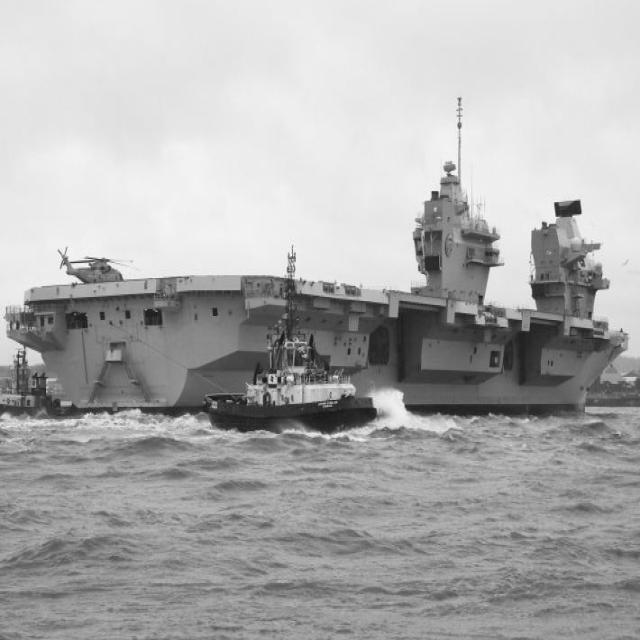Portanaves: (1, 149, 639, 425)
